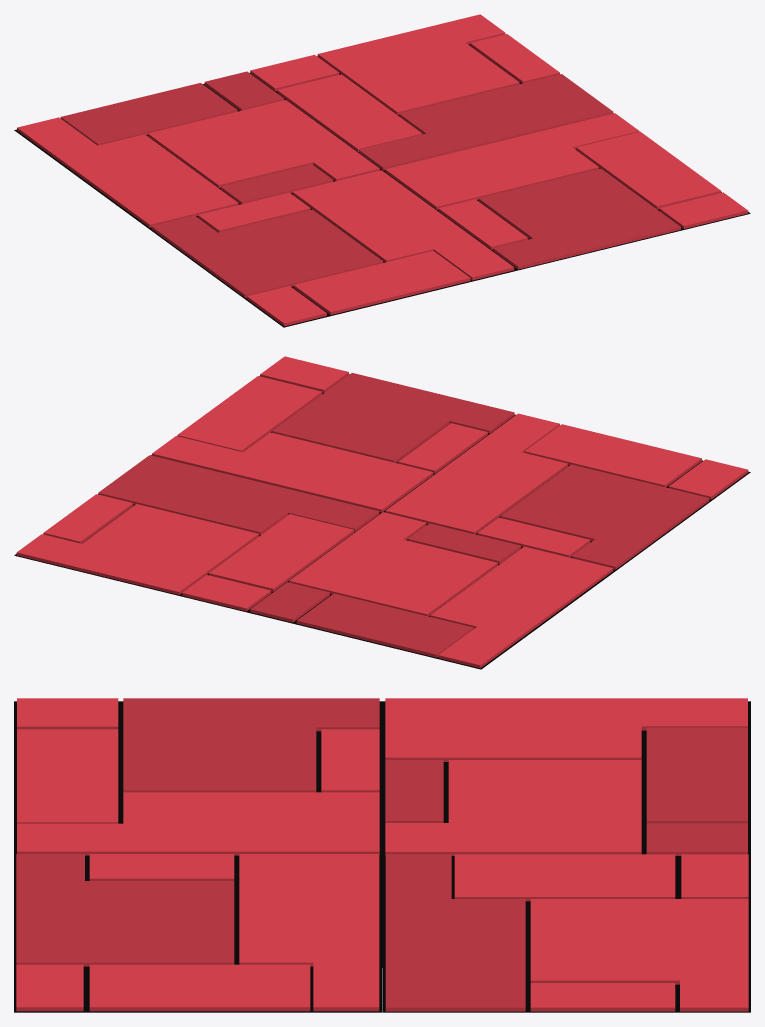
File: Floor.fbx
The picture shows the model from 3 angles, top to bottom: view 1: azimuth 30°, elevation 25°; view 2: azimuth 150°, elevation 25°; view 3: azimuth 270°, elevation 25°; orthographic projection. The views are drawn at different scales.
Parts seen in each view (by area): view 1: Floor; view 2: Floor; view 3: Floor.
Part boxes in pixels (left/top/right/bottom): Floor: left=14, top=14, right=750, bottom=327; Floor: left=14, top=356, right=750, bottom=669; Floor: left=14, top=698, right=750, bottom=1012.
Size of the model in its own units: 3.66 by 0.0224 by 3.66.
